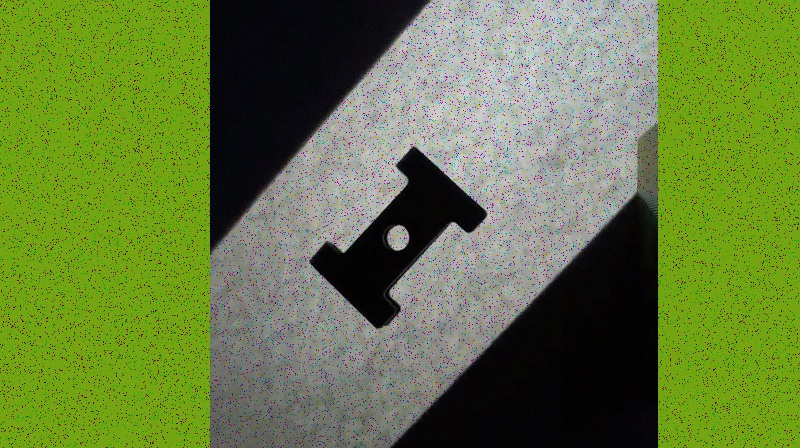O002: (307, 143, 488, 333)
